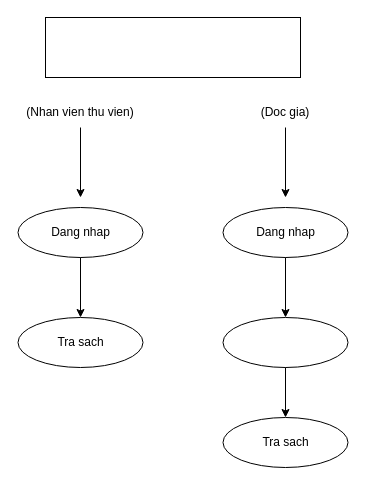
Image size: 365x485. Some labels were removed from this diagram. The box of each missing label's shape, as (x1, y1, x2, y2) in pixels:
He Thong Thu Vien: (44, 16, 300, 78)
Tim sach: (222, 316, 348, 368)
